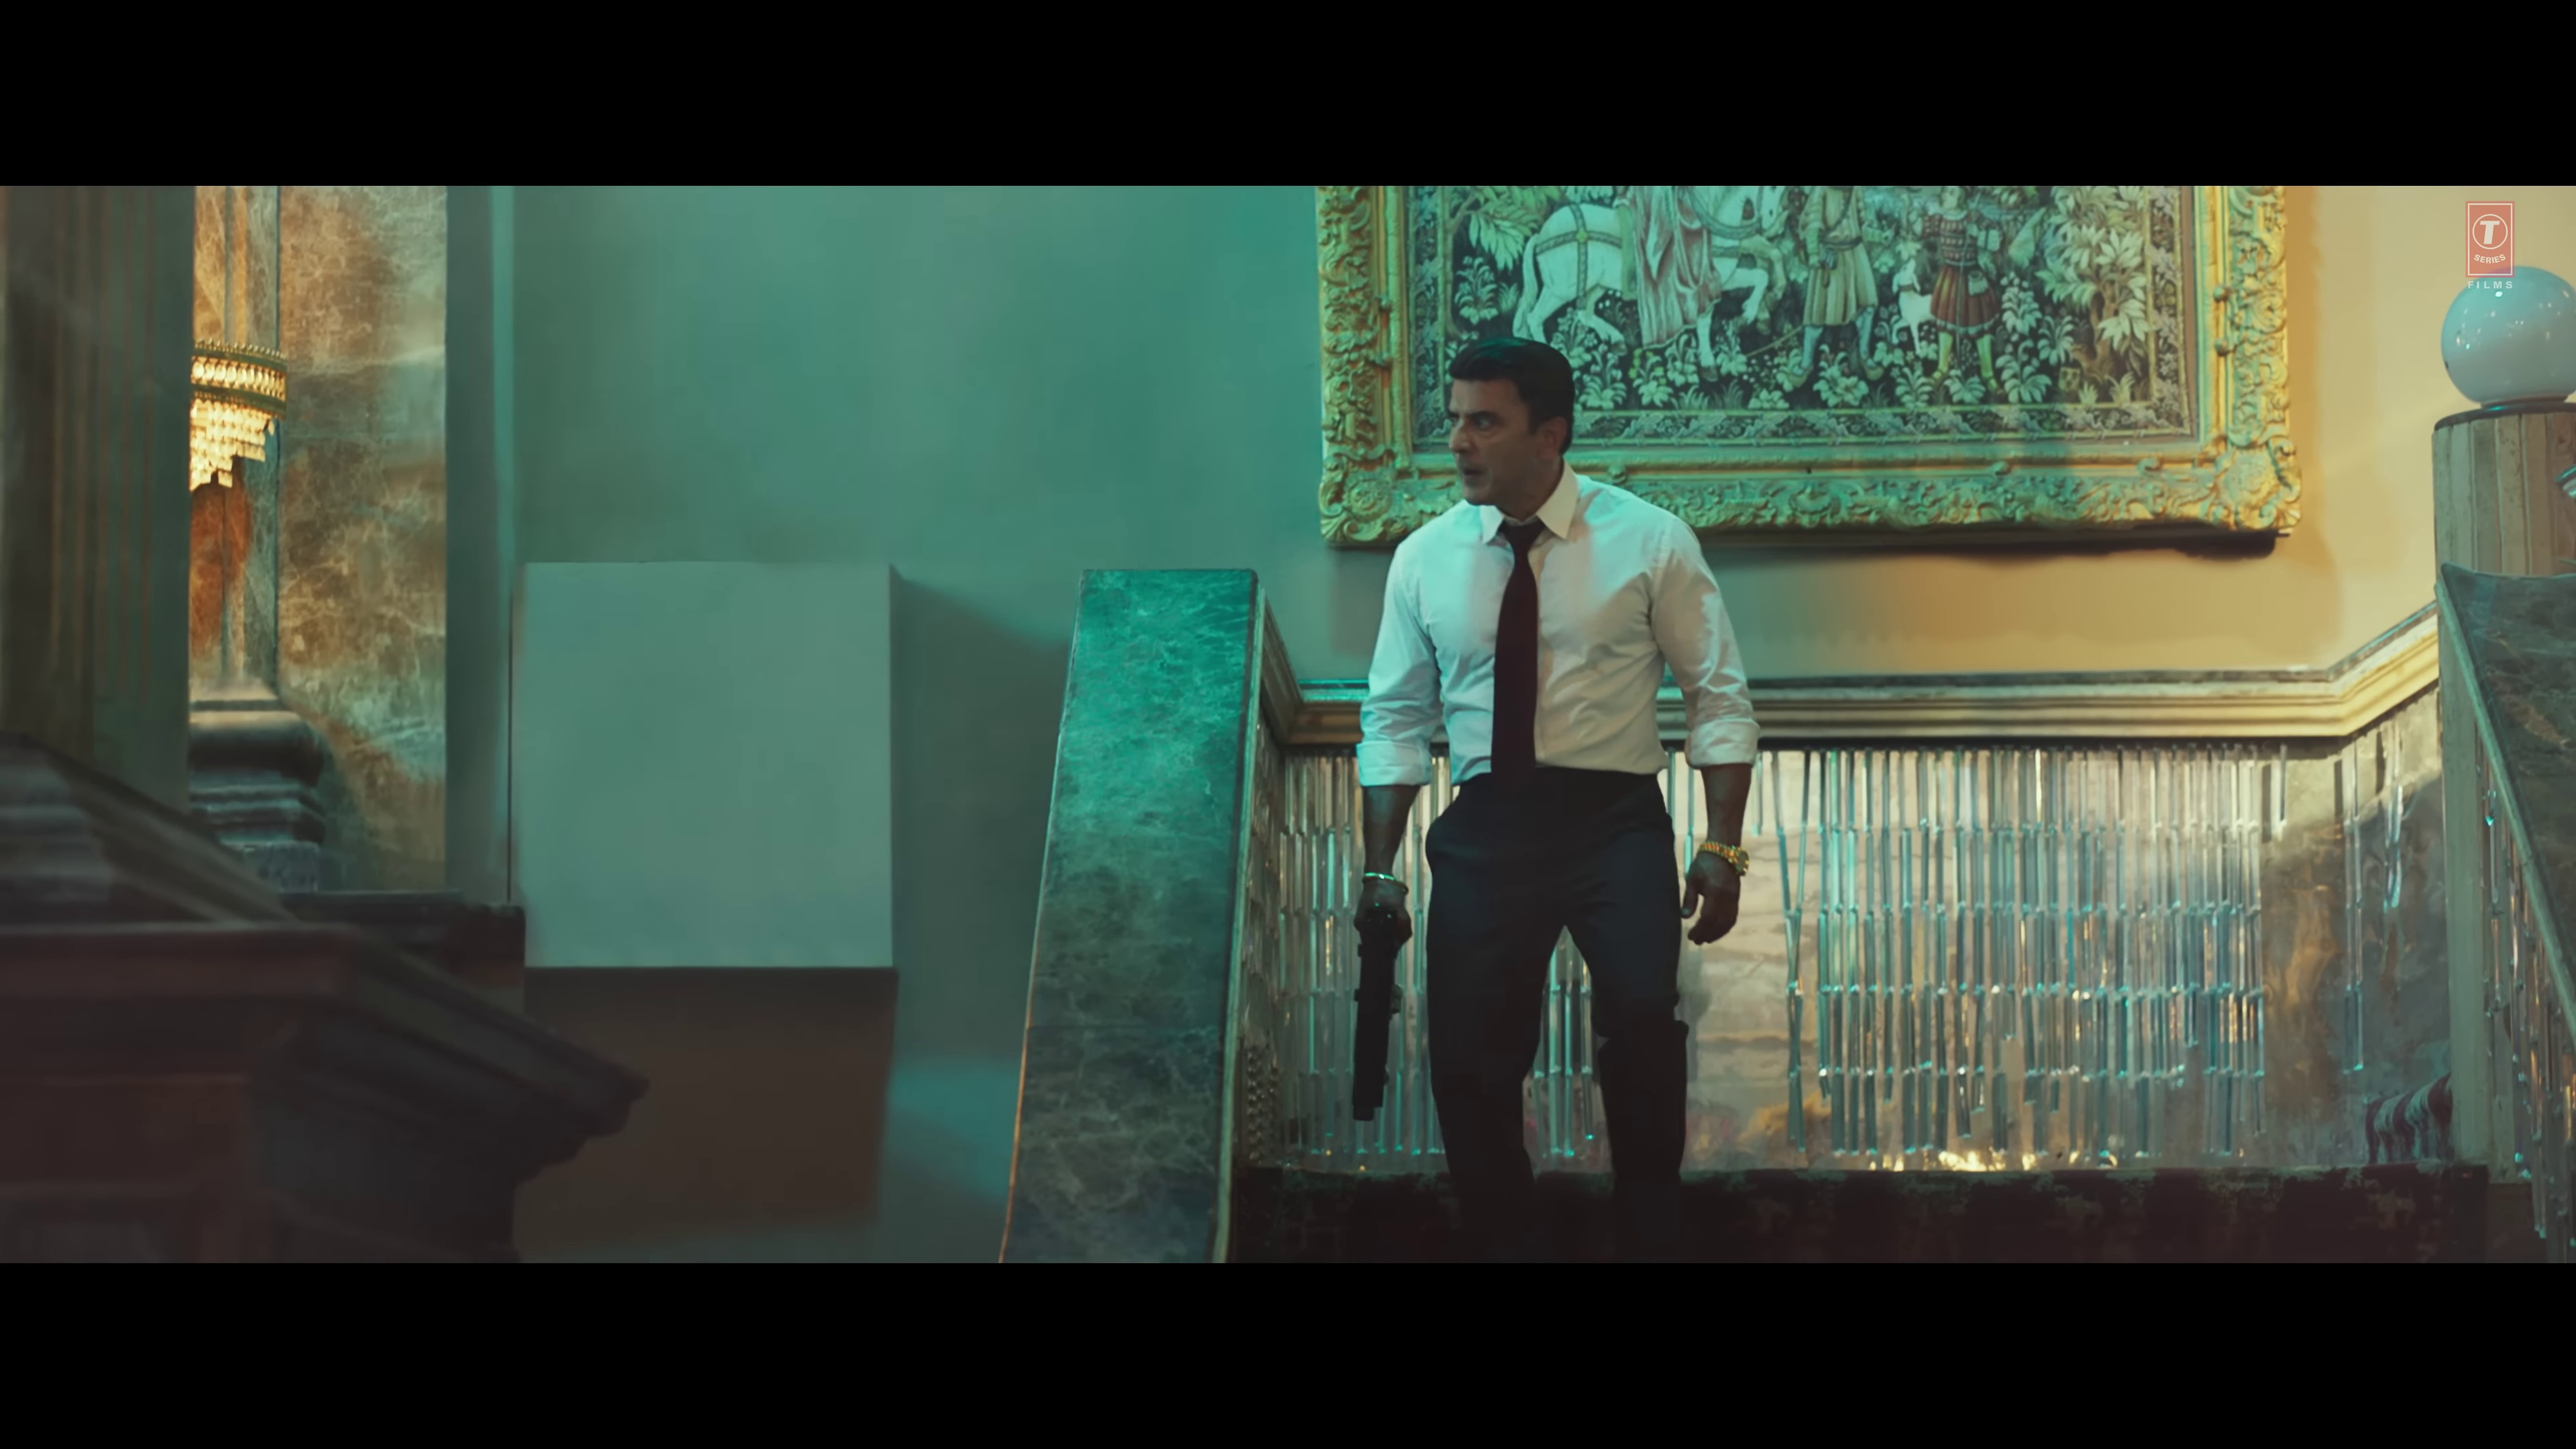gun: (1346, 893, 1422, 1125)
p_w_gun: (1338, 336, 1759, 1185)
